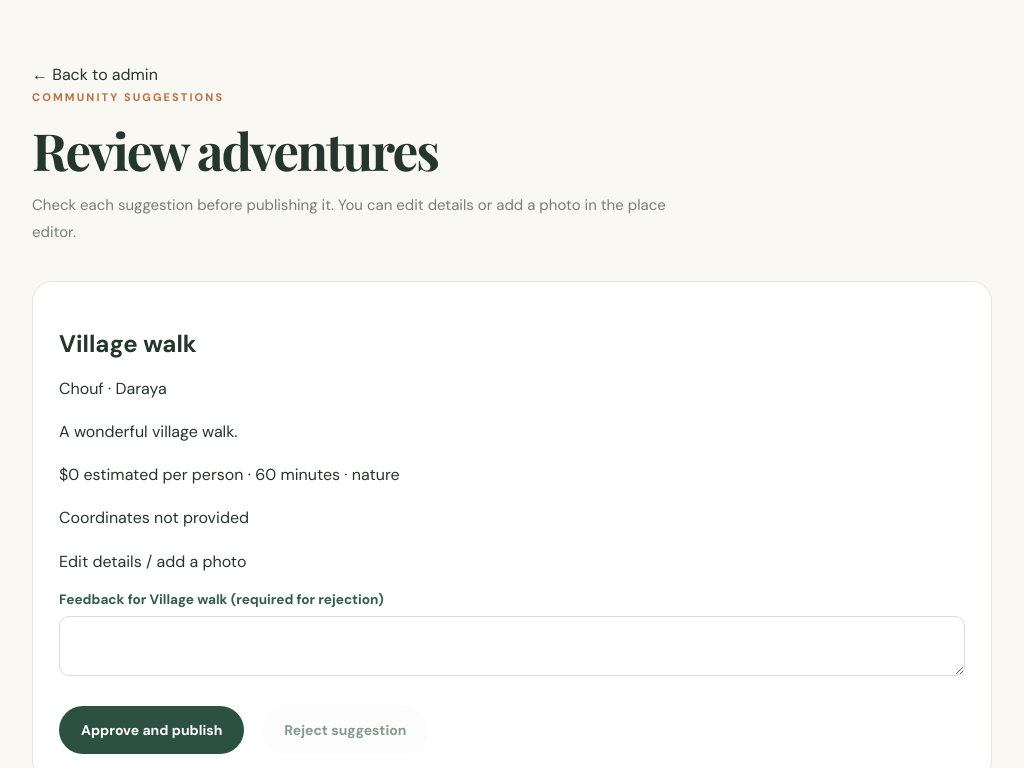
Test case: admin rejection requires a reason and removes the reviewed item
The width and height of the screenshot is (1024, 768).
expect the heading "Village walk" is shown: met, box [59, 328, 197, 359]
expect the button "Reject suggestion" is disabled: met, box [262, 706, 428, 754]
Step 1. Type "Please clarify the location." into the text box labelled "Feedback for Village walk (required for rejection)" → (512, 646), box [59, 616, 965, 676]
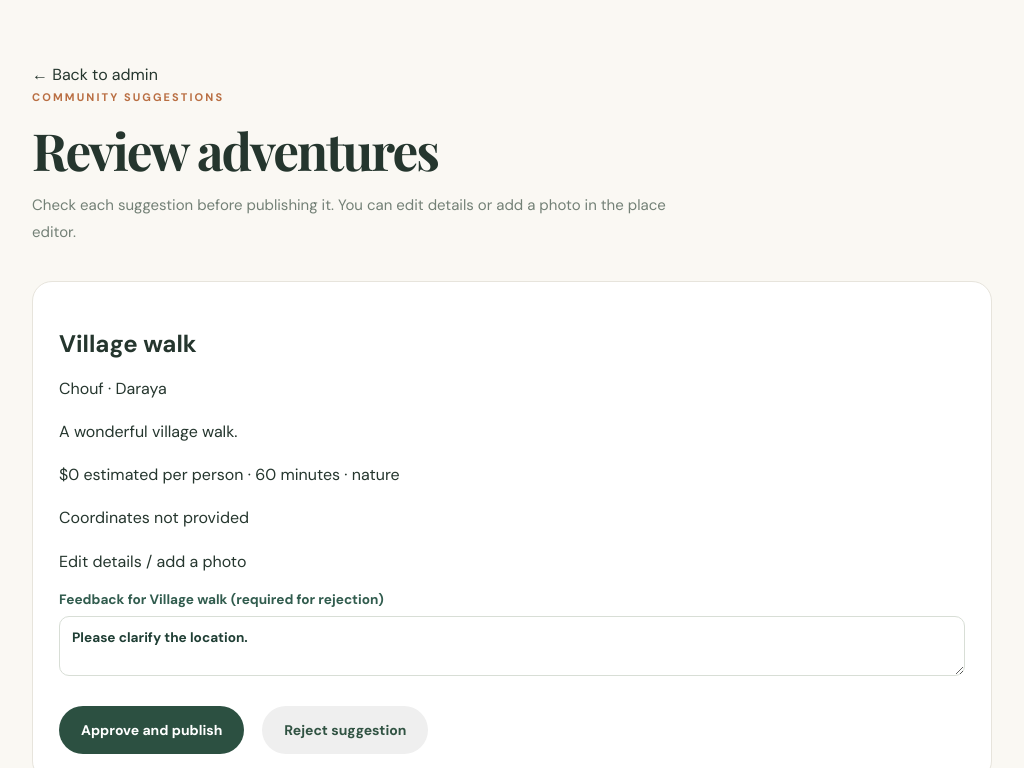
Step 2. Click the button "Reject suggestion" → (345, 730), box [262, 706, 428, 754]
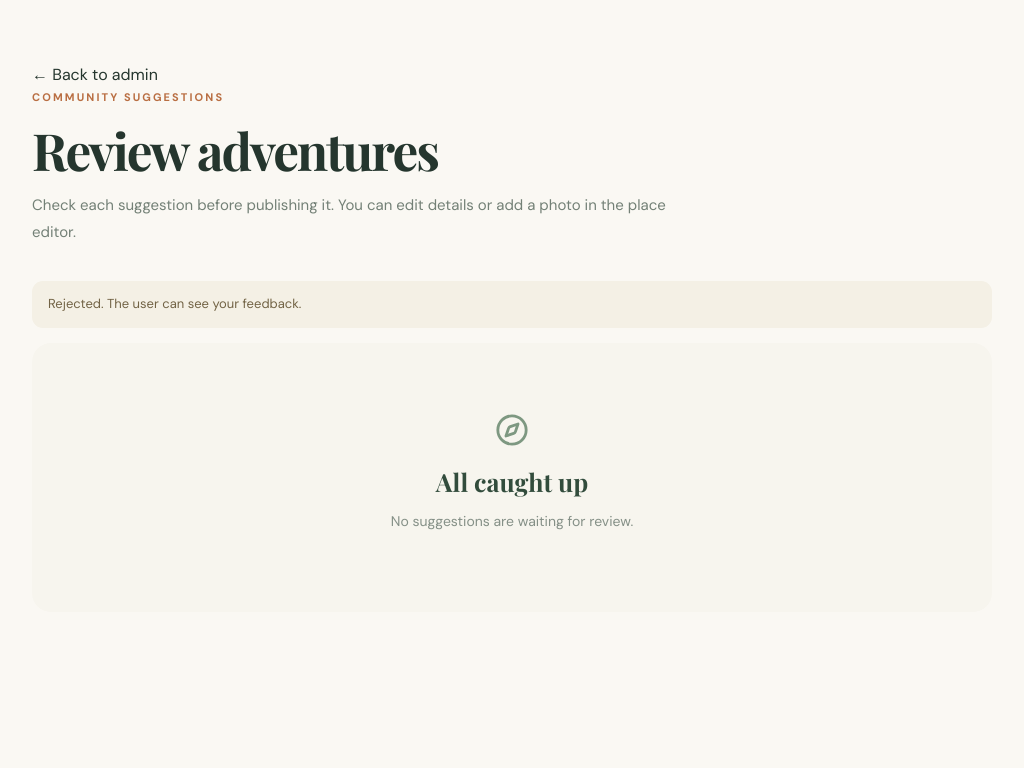
expect the heading "All caught up" is shown: met, box [436, 465, 588, 498]
